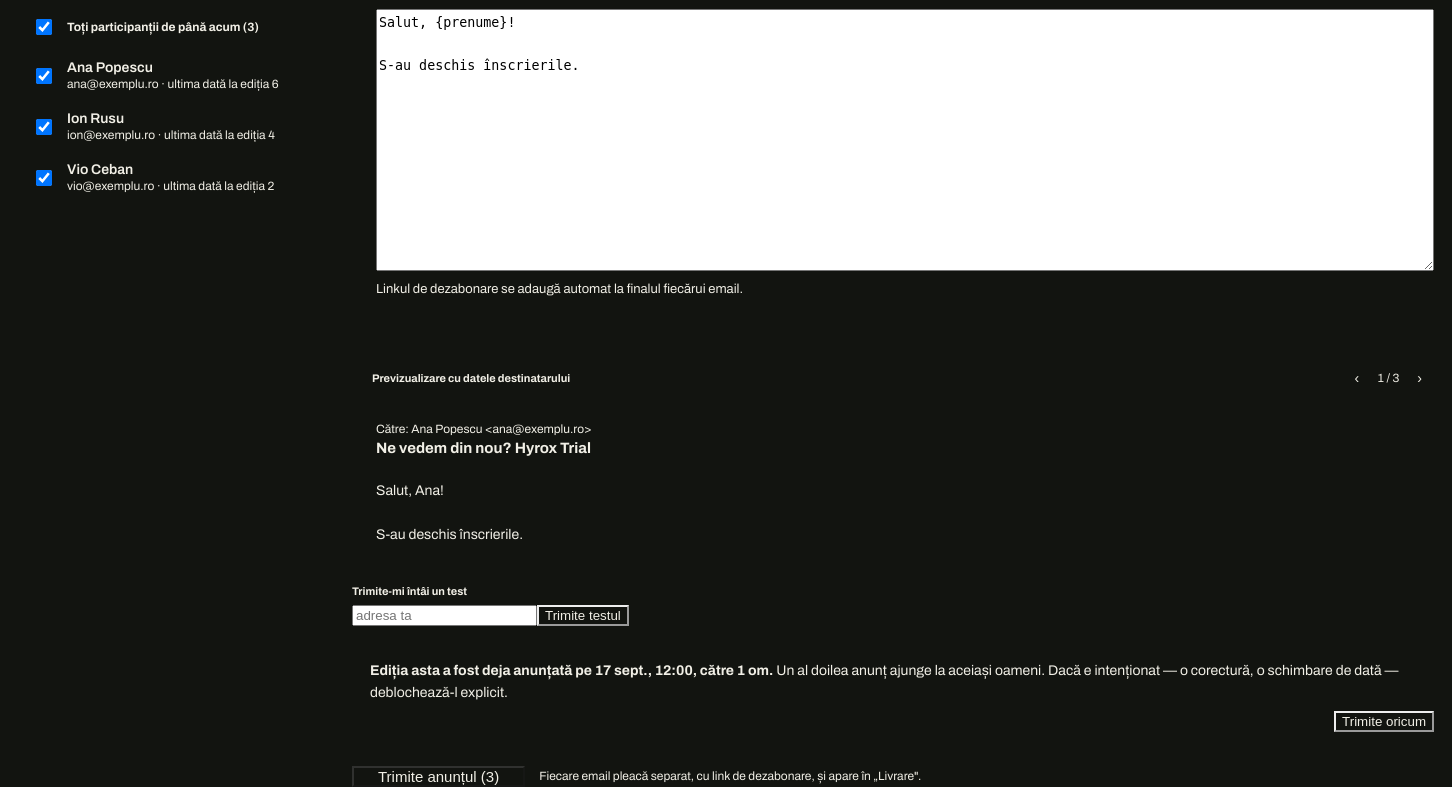
AnuntIstoric — ediția a mai fost anunțată › blochează butonul și cere deblocare explicită
(page scrolled)
expect the text "Ana Popescu" is shown: met, box [67,60,153,75]
expect the text "a fost deja anunțată" is shown: met, box [370,663,595,678]
Step 1. Click the button "Trimite oricum" → click(1384, 721), box [1334,710,1434,732]
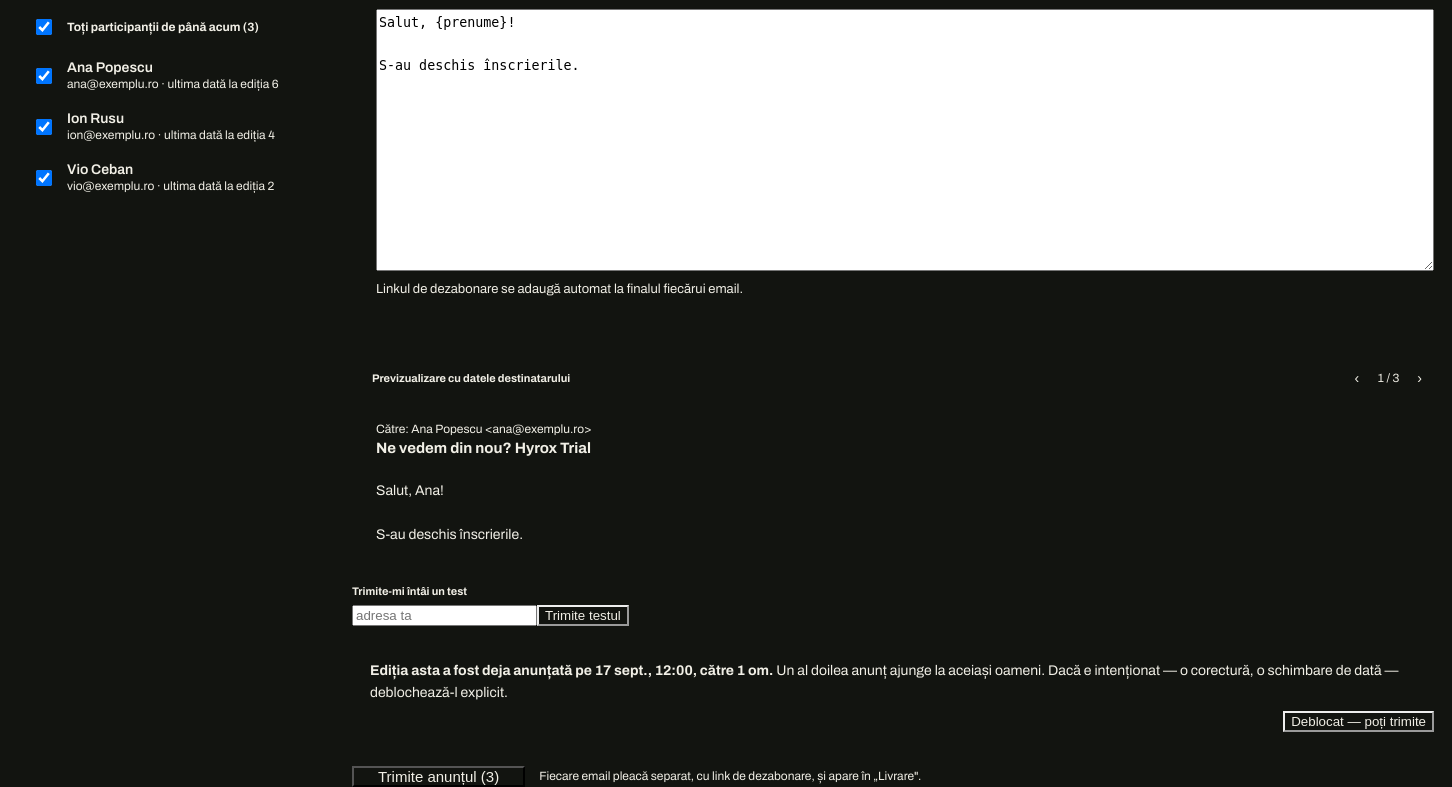
expect the button "Trimite anunțul (3)" is enabled: met, box [352,766,525,786]
